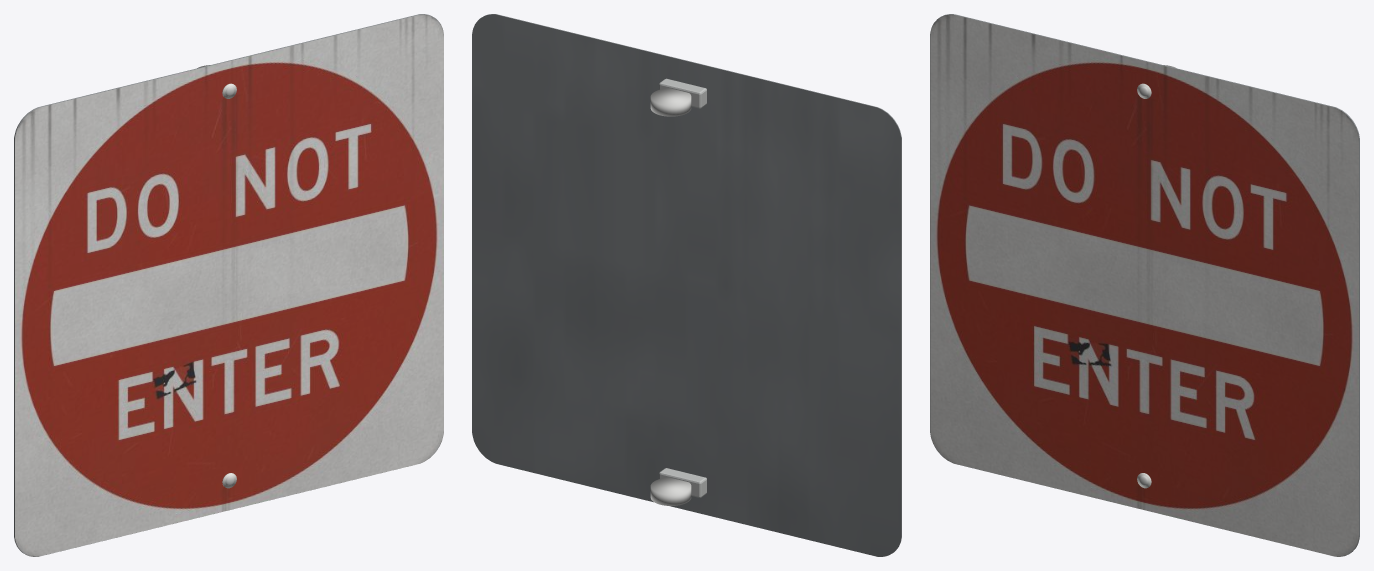
File: doNotEnter-v1.glb
3 renders of one model, left to right at view 1: azimuth 30°, elevation 25°; view 2: azimuth 150°, elevation 25°; view 3: azimuth 330°, elevation 25°, orthographic.
Parts seen in each view (by area): view 1: doNotEnter-v1; view 2: doNotEnter-v1; view 3: doNotEnter-v1.
Boxes of the visible parts, x1=… form: doNotEnter-v1: x1=14, y1=14, x2=443, y2=556; doNotEnter-v1: x1=472, y1=14, x2=901, y2=556; doNotEnter-v1: x1=930, y1=14, x2=1359, y2=556.
Size of the model in its own units: 0.762 by 0.762 by 0.0871.
1 material, 1 textured.
